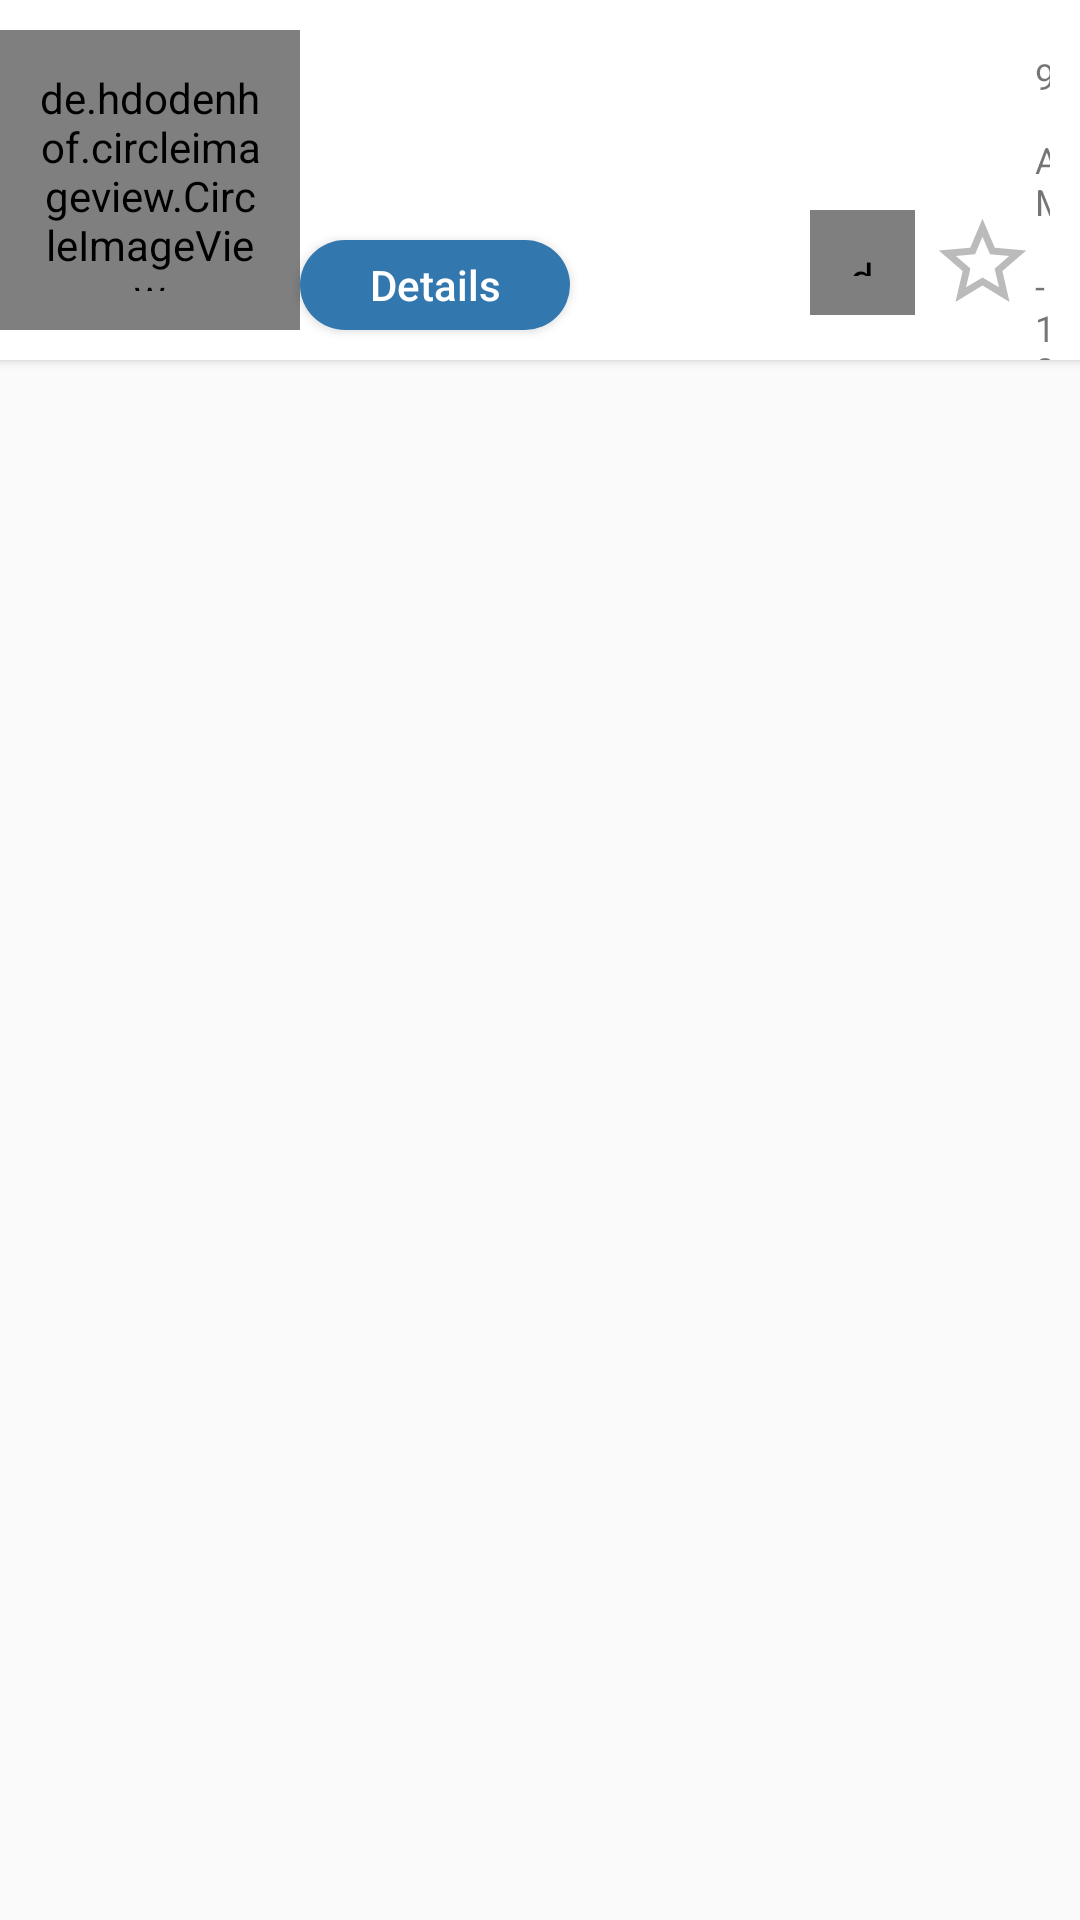

Named icons in this screenshot (1080px×1920px) and their centers, point (x, y):
star: point (982, 260)
